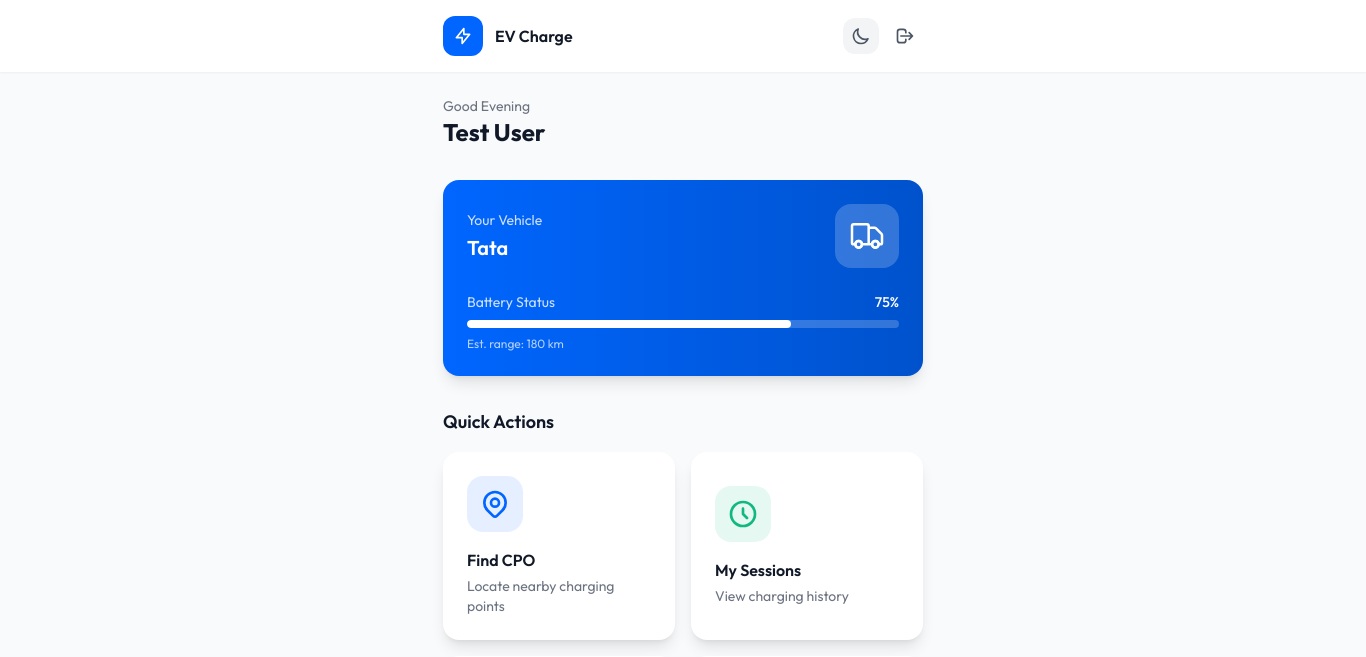
Test case: Home Component › closes logout modal on cancel
The width and height of the screenshot is (1366, 657).
Click the button titled "Logout" at (905, 36), box [887,18,923,54]
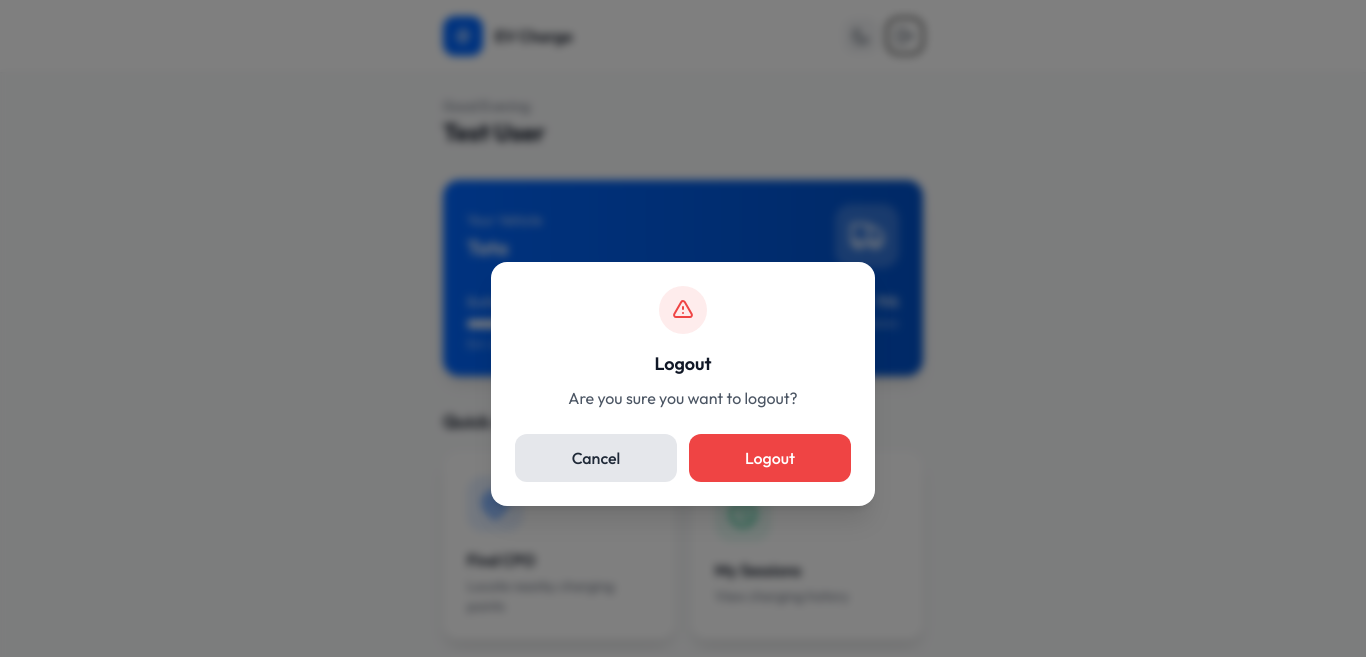
Check: the text "Are you sure you want to logout?" is shown, box [568,388,798,408]
Click cancel button
Click the button "Cancel" at (596, 458), box [515,434,677,482]
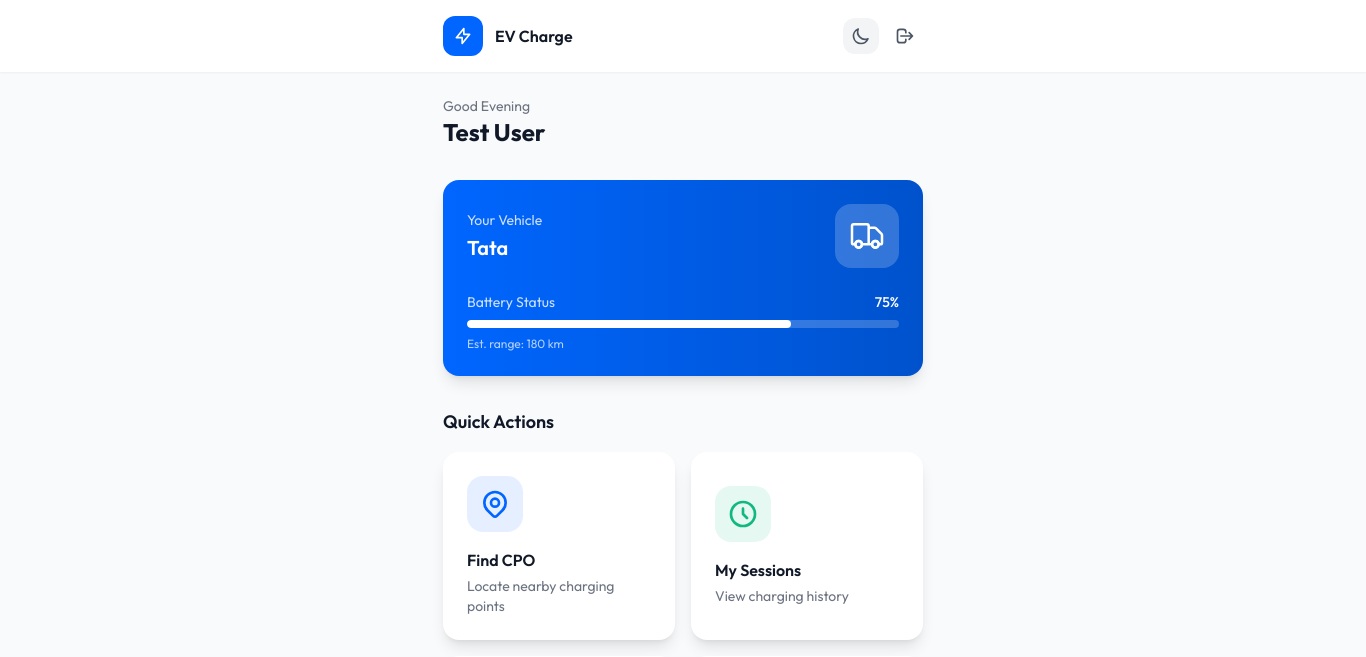
Check: the text "Are you sure you want to logout?" is gone
